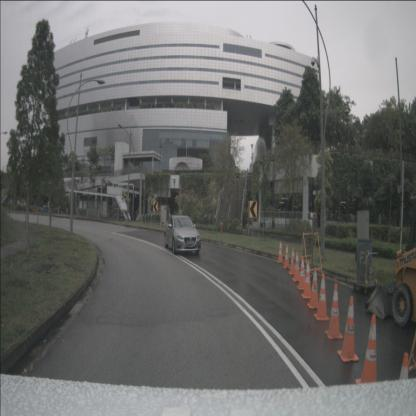cone: (355, 314, 377, 384), (338, 299, 359, 362), (325, 284, 342, 340), (315, 278, 329, 321), (308, 274, 319, 308), (302, 266, 312, 298), (399, 352, 409, 380), (298, 258, 306, 290), (292, 254, 300, 282), (284, 244, 290, 270), (289, 249, 295, 274), (277, 240, 283, 264)
